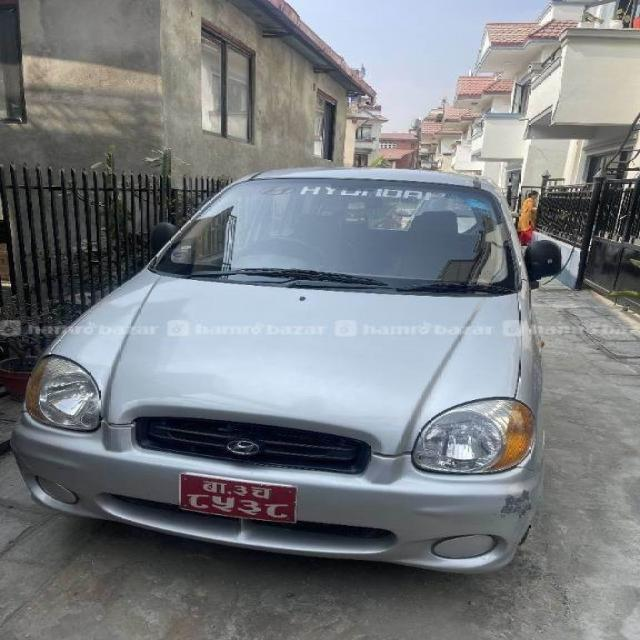License-plate: (180, 474, 296, 528)
